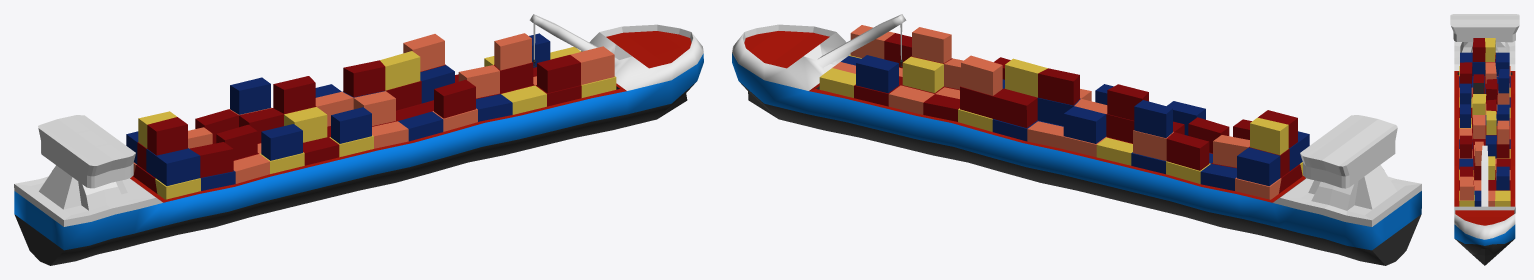
File: Vrachtschip.fbx
3 views of the same model, side by side, from view 1: azimuth 30°, elevation 25°; view 2: azimuth 150°, elevation 25°; view 3: azimuth 270°, elevation 25° (orthographic). The views are drawn at different scales.
Visible parts, largest first — view 1: Cylinder.175; view 2: Cylinder.175; view 3: Cylinder.175.
Boxes of the visible parts, <box> form: Cylinder.175: <box>14,14,703,265</box>; Cylinder.175: <box>732,14,1421,265</box>; Cylinder.175: <box>1450,14,1519,265</box>.
Bounding box in the file's own units: 7828 × 1426 × 1154.
